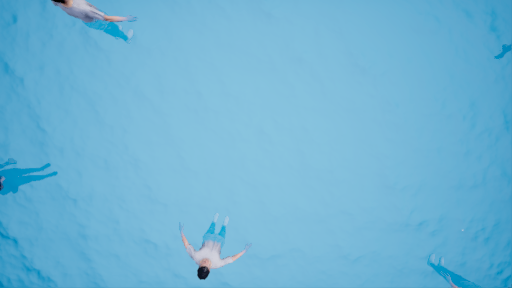person: (173, 214, 255, 279), (51, 1, 146, 49)
